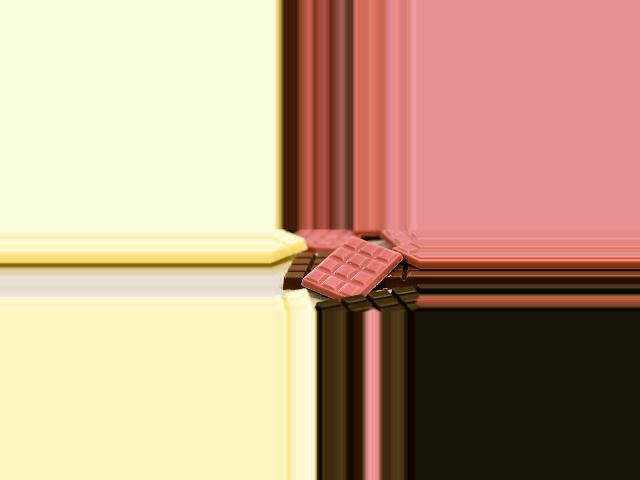chocolate: (303, 233, 403, 312)
